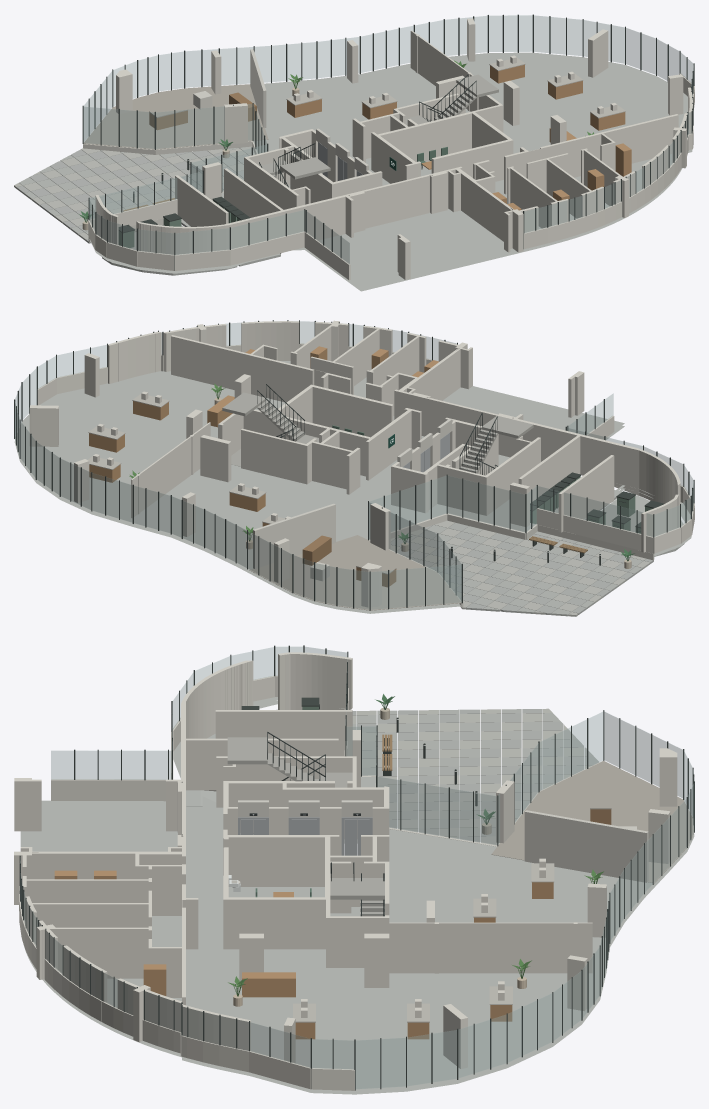
The model's file is lower-ground-full-v2.glb.
The picture shows the model from 3 angles, top to bottom: view 1: azimuth 30°, elevation 25°; view 2: azimuth 150°, elevation 25°; view 3: azimuth 270°, elevation 25°; orthographic projection. The views are drawn at different scales.
Parts seen in each view (by area): view 1: SOURCE FLOOR | lower main slab, BOUNDED SOURCE REGION | west retail floor finish, SOURCE WALL | 619.020, SOURCE WALL | 12, SOURCE WALL | 1315, SOURCE FLOOR | lower main slab bottom, SOURCE WALL | 124, SOURCE WALL | 763, SOURCE TRACED PARTITION | east commercial bay, SOURCE WALL | 354, SOURCE WALL | 14.008, SOURCE WALL | 844.001 (+71 smaller); view 2: SOURCE FLOOR | lower main slab, BOUNDED SOURCE REGION | west retail floor finish, SOURCE WALL | 619.002, SOURCE STROKE | west retail east partition, SOURCE TRACED PARTITION | east commercial bay, SOURCE WALL | 14.006, SOURCE WALL | 22.003, SOURCE WALL | 354, SOURCE WALL | 844, SOURCE WALL | 84.001, SOURCE FLOOR | lower main slab bottom, SOURCE WALL | 1315.004 (+57 smaller); view 3: SOURCE FLOOR | lower main slab, SOURCE TRACED PARTITION | east commercial bay, BOUNDED SOURCE REGION | west retail floor finish, SOURCE STROKE | west retail east partition, SOURCE WALL | 13.001, SOURCE WALL | 11.001, SOURCE WALL | 354.001, SOURCE WALL | 264.001, SOURCE FLOOR | lower main slab bottom, SOURCE WALL | 128.003, SOURCE WALL | 124.003, SOURCE WALL | 125.001 (+42 smaller).
Part boxes in pixels (x1,y1,x2,y2): SOURCE FLOOR | lower main slab: (221,52,688,288); BOUNDED SOURCE REGION | west retail floor finish: (83,84,268,149); SOURCE WALL | 619.020: (529,115,678,177); SOURCE WALL | 12: (374,113,471,172); SOURCE WALL | 1315: (362,176,428,228); SOURCE FLOOR | lower main slab bottom: (89,149,692,291); SOURCE WALL | 124: (455,170,511,241); SOURCE WALL | 763: (283,198,338,240); SOURCE TRACED PARTITION | east commercial bay: (410,30,475,111); SOURCE WALL | 354: (175,175,225,226); SOURCE WALL | 14.008: (433,141,509,181); SOURCE WALL | 844.001: (229,210,284,248); SOURCE FLOOR | lower main slab: (15,361,690,610); BOUNDED SOURCE REGION | west retail floor finish: (249,535,461,610); SOURCE WALL | 619.002: (171,336,313,402); SOURCE STROKE | west retail east partition: (253,503,335,568); SOURCE TRACED PARTITION | east commercial bay: (131,422,210,517); SOURCE WALL | 14.006: (312,387,392,437); SOURCE WALL | 22.003: (241,428,307,484); SOURCE WALL | 354: (558,456,614,532); SOURCE WALL | 844: (580,436,638,495); SOURCE WALL | 84.001: (434,463,486,515); SOURCE FLOOR | lower main slab bottom: (14,425,691,613); SOURCE WALL | 1315.004: (401,392,495,436); SOURCE FLOOR | lower main slab: (20,697,689,1090); SOURCE TRACED PARTITION | east commercial bay: (389,922,592,973); BOUNDED SOURCE REGION | west retail floor finish: (491,761,694,883); SOURCE STROKE | west retail east partition: (524,810,648,882); SOURCE WALL | 13.001: (223,897,330,949); SOURCE WALL | 11.001: (227,835,324,886); SOURCE WALL | 354.001: (215,710,352,756); SOURCE WALL | 264.001: (61,927,148,978); SOURCE FLOOR | lower main slab bottom: (23,700,694,1094); SOURCE WALL | 128.003: (186,739,338,790); SOURCE WALL | 124.003: (32,853,173,879); SOURCE WALL | 125.001: (53,903,148,927).
Bounding box in the file's own units: 45.09 × 5.43 × 32.85.
